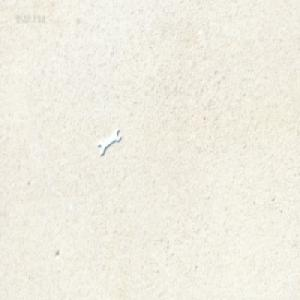Wrench: (97, 126, 120, 154)
